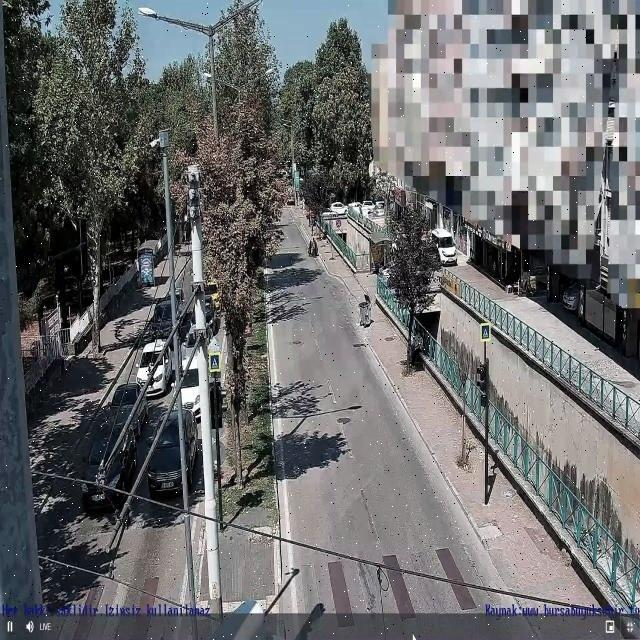Car: (138, 412, 198, 503), (77, 412, 136, 503), (128, 335, 183, 404), (170, 350, 208, 415), (427, 228, 464, 270), (146, 299, 178, 341), (109, 383, 141, 419), (194, 274, 224, 310), (328, 202, 350, 220)
